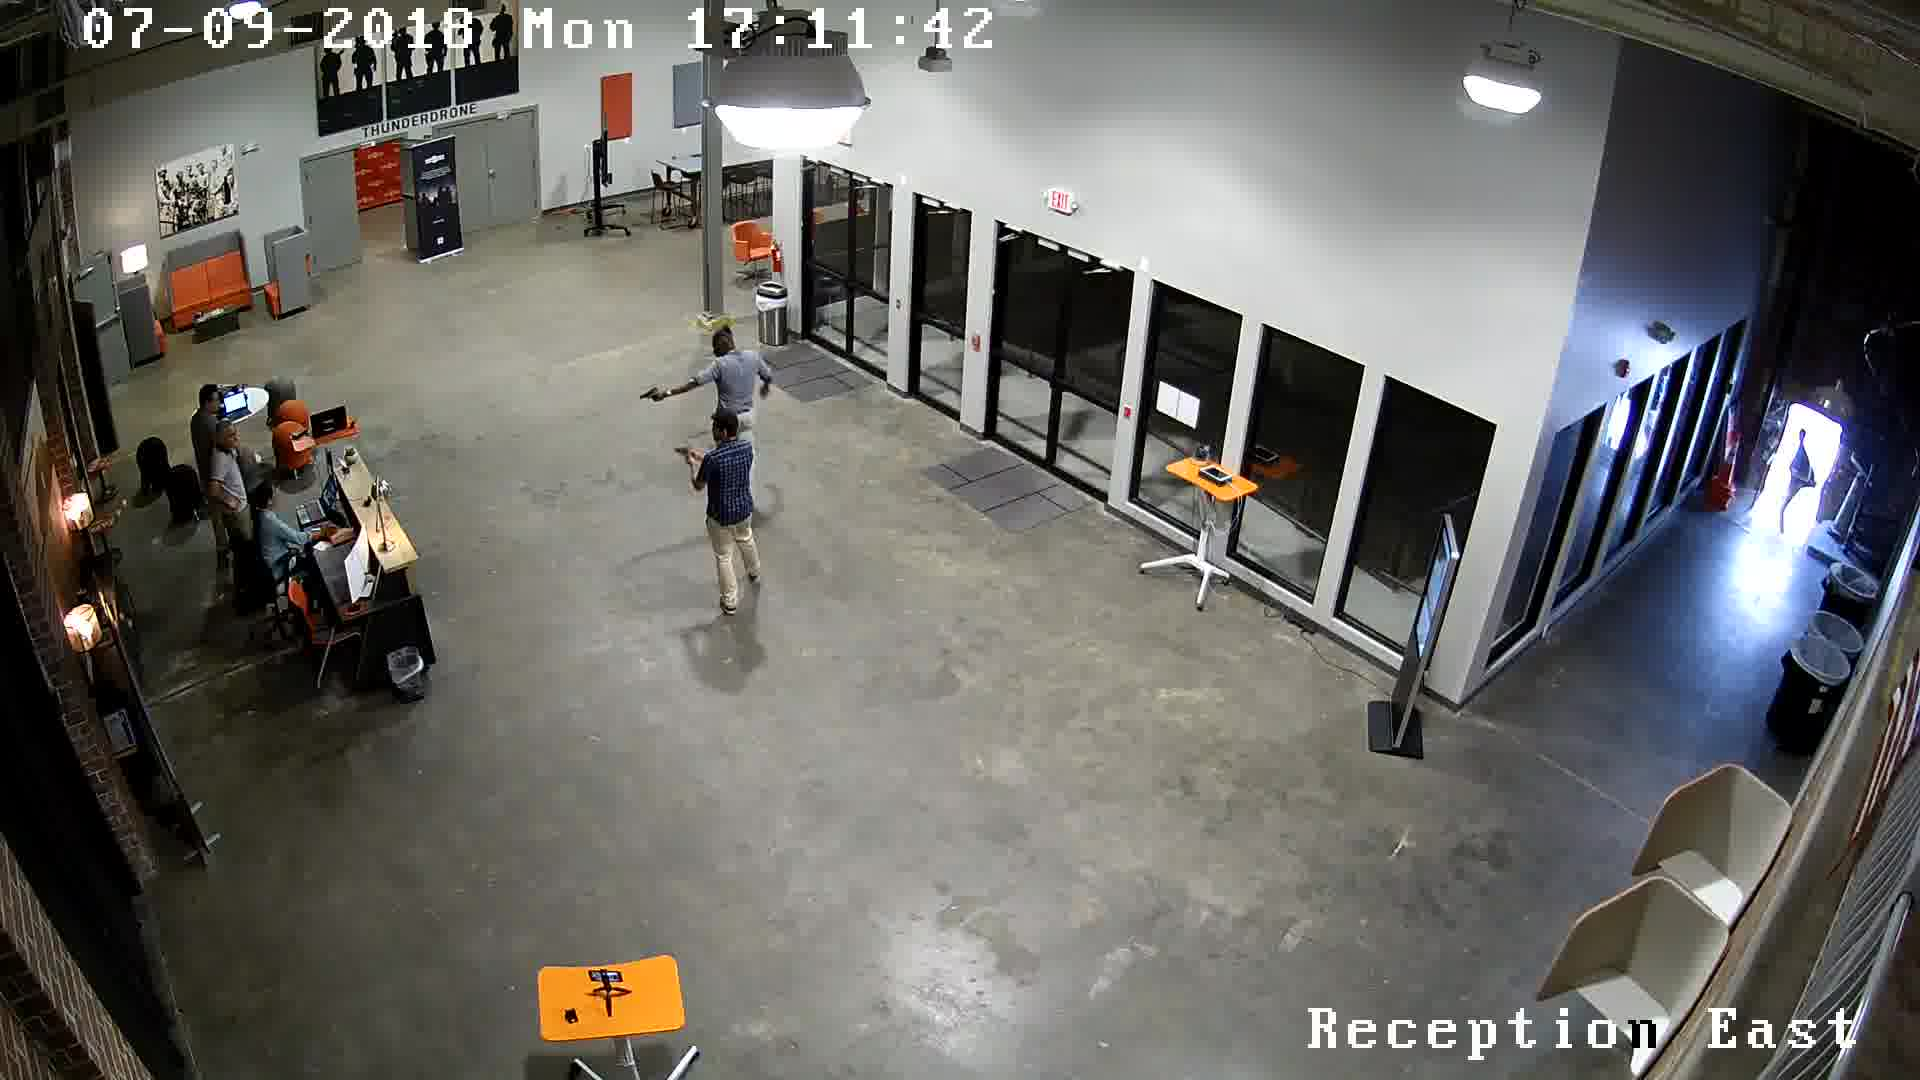pistol: (633, 378, 666, 415), (666, 440, 694, 469)
